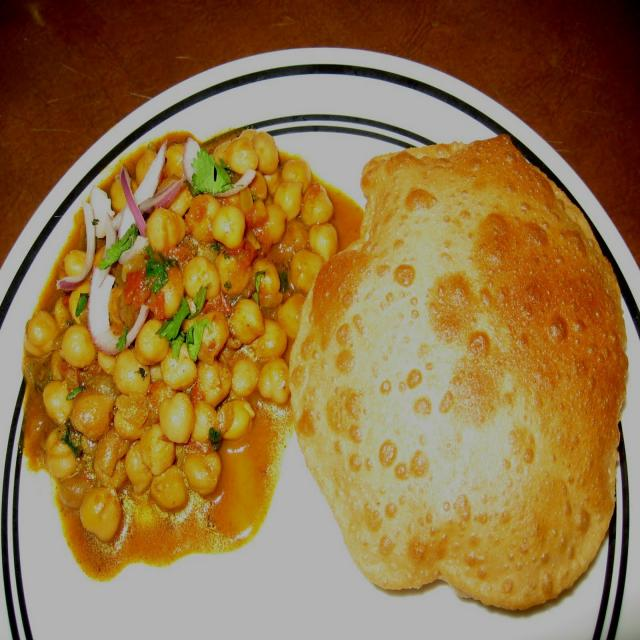Bhatura: (287, 136, 628, 612)
Chole: (22, 127, 367, 581)
